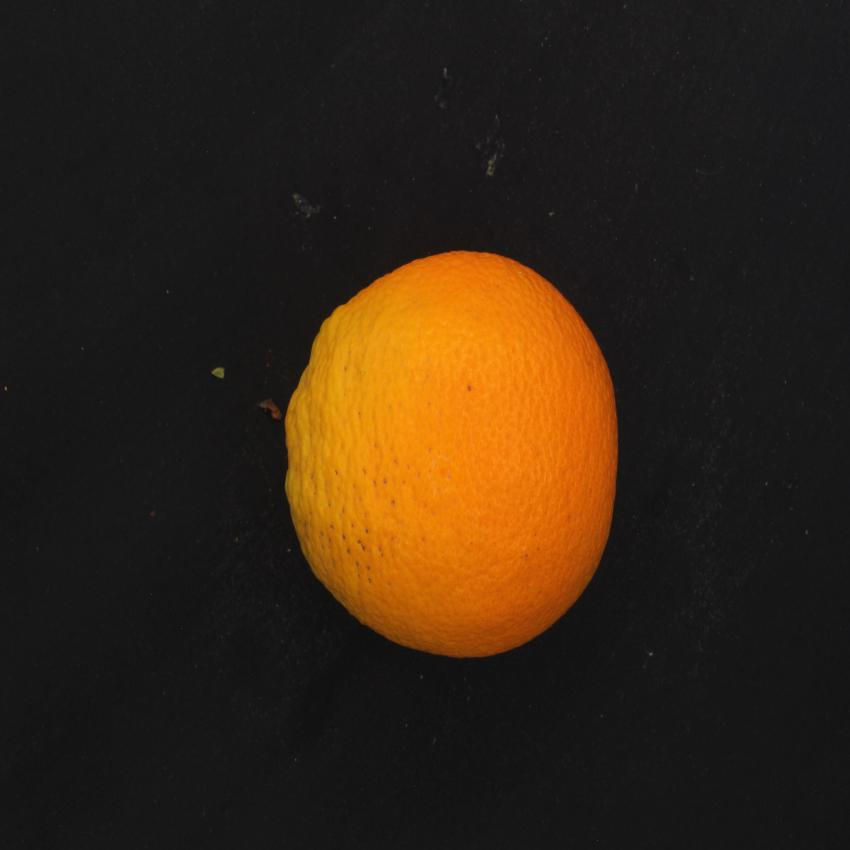Buen estado: (249, 237, 627, 670)
